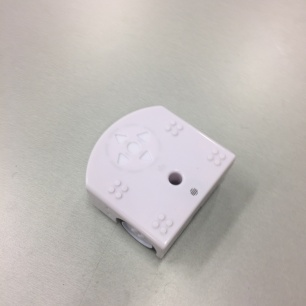thymio: (74, 102, 243, 259)
